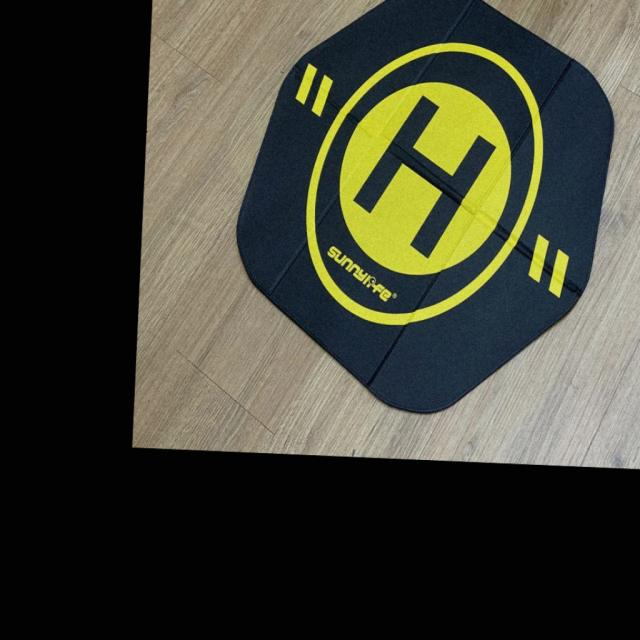helipad: (301, 38, 545, 331)
